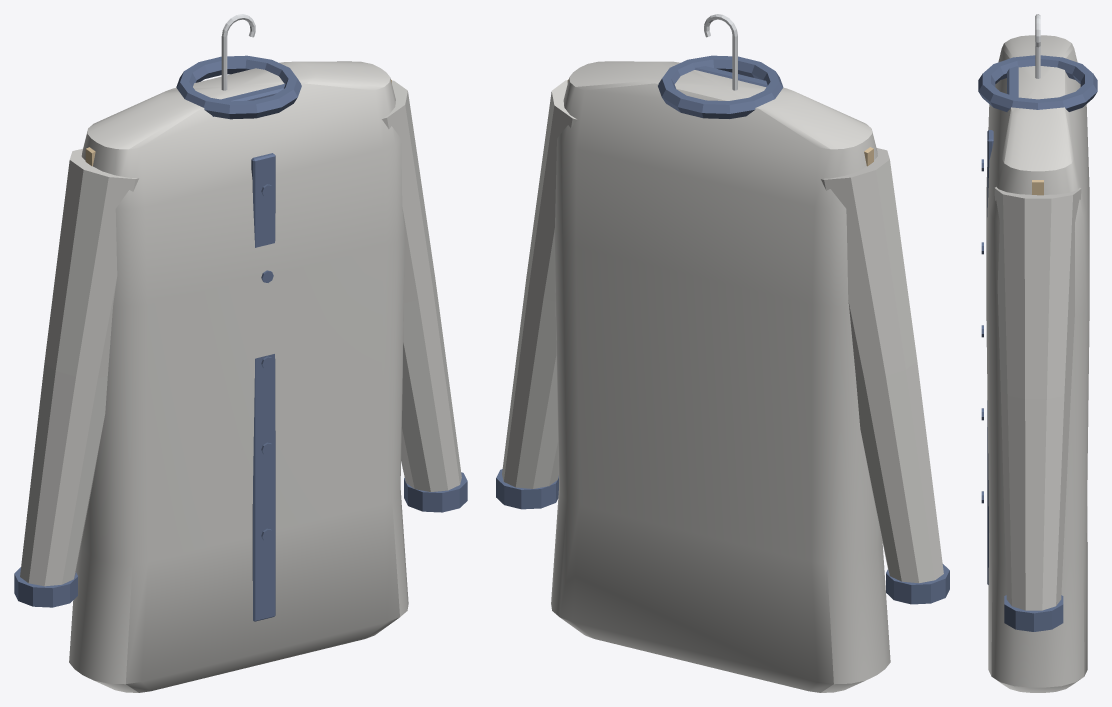
The model's file is clothing-rail-and-wardrobe-shirt-on-hanger-962569c5__35448.glb.
The picture shows the model from 3 angles, left to right: view 1: azimuth 30°, elevation 25°; view 2: azimuth 150°, elevation 25°; view 3: azimuth 270°, elevation 25°; orthographic projection. The views are drawn at different scales.
Visible parts, largest first — view 1: shirt-on-hanger; view 2: shirt-on-hanger; view 3: shirt-on-hanger.
Part boxes in pixels (box(x1,y1,x2,y2)): shirt-on-hanger: box(14, 14, 467, 692); shirt-on-hanger: box(496, 14, 949, 692); shirt-on-hanger: box(978, 14, 1097, 692).
Size of the model in its own units: 0.6236 by 0.8513 by 0.1501.
